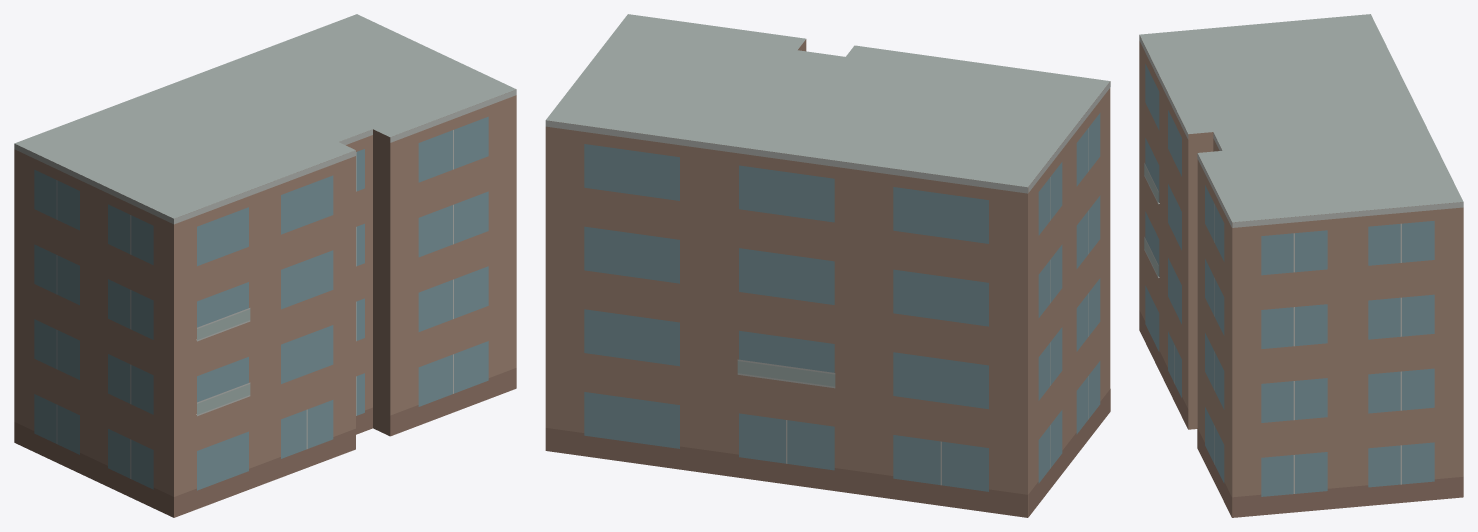
File: survey-upis-32636727.glb
3 renders of one model, left to right at view 1: azimuth 30°, elevation 25°; view 2: azimuth 150°, elevation 25°; view 3: azimuth 270°, elevation 25°, orthographic. The views are drawn at different scales.
Visible parts, largest first — view 1: survey-upis-32636727.tmp; view 2: survey-upis-32636727.tmp; view 3: survey-upis-32636727.tmp.
Boxes of the visible parts, left/top/right/bottom form: survey-upis-32636727.tmp: left=14, top=14, right=516, bottom=517; survey-upis-32636727.tmp: left=545, top=14, right=1110, bottom=517; survey-upis-32636727.tmp: left=1139, top=14, right=1463, bottom=517.
Bounding box in the file's own units: 19.37 × 12.8 × 12.74.
